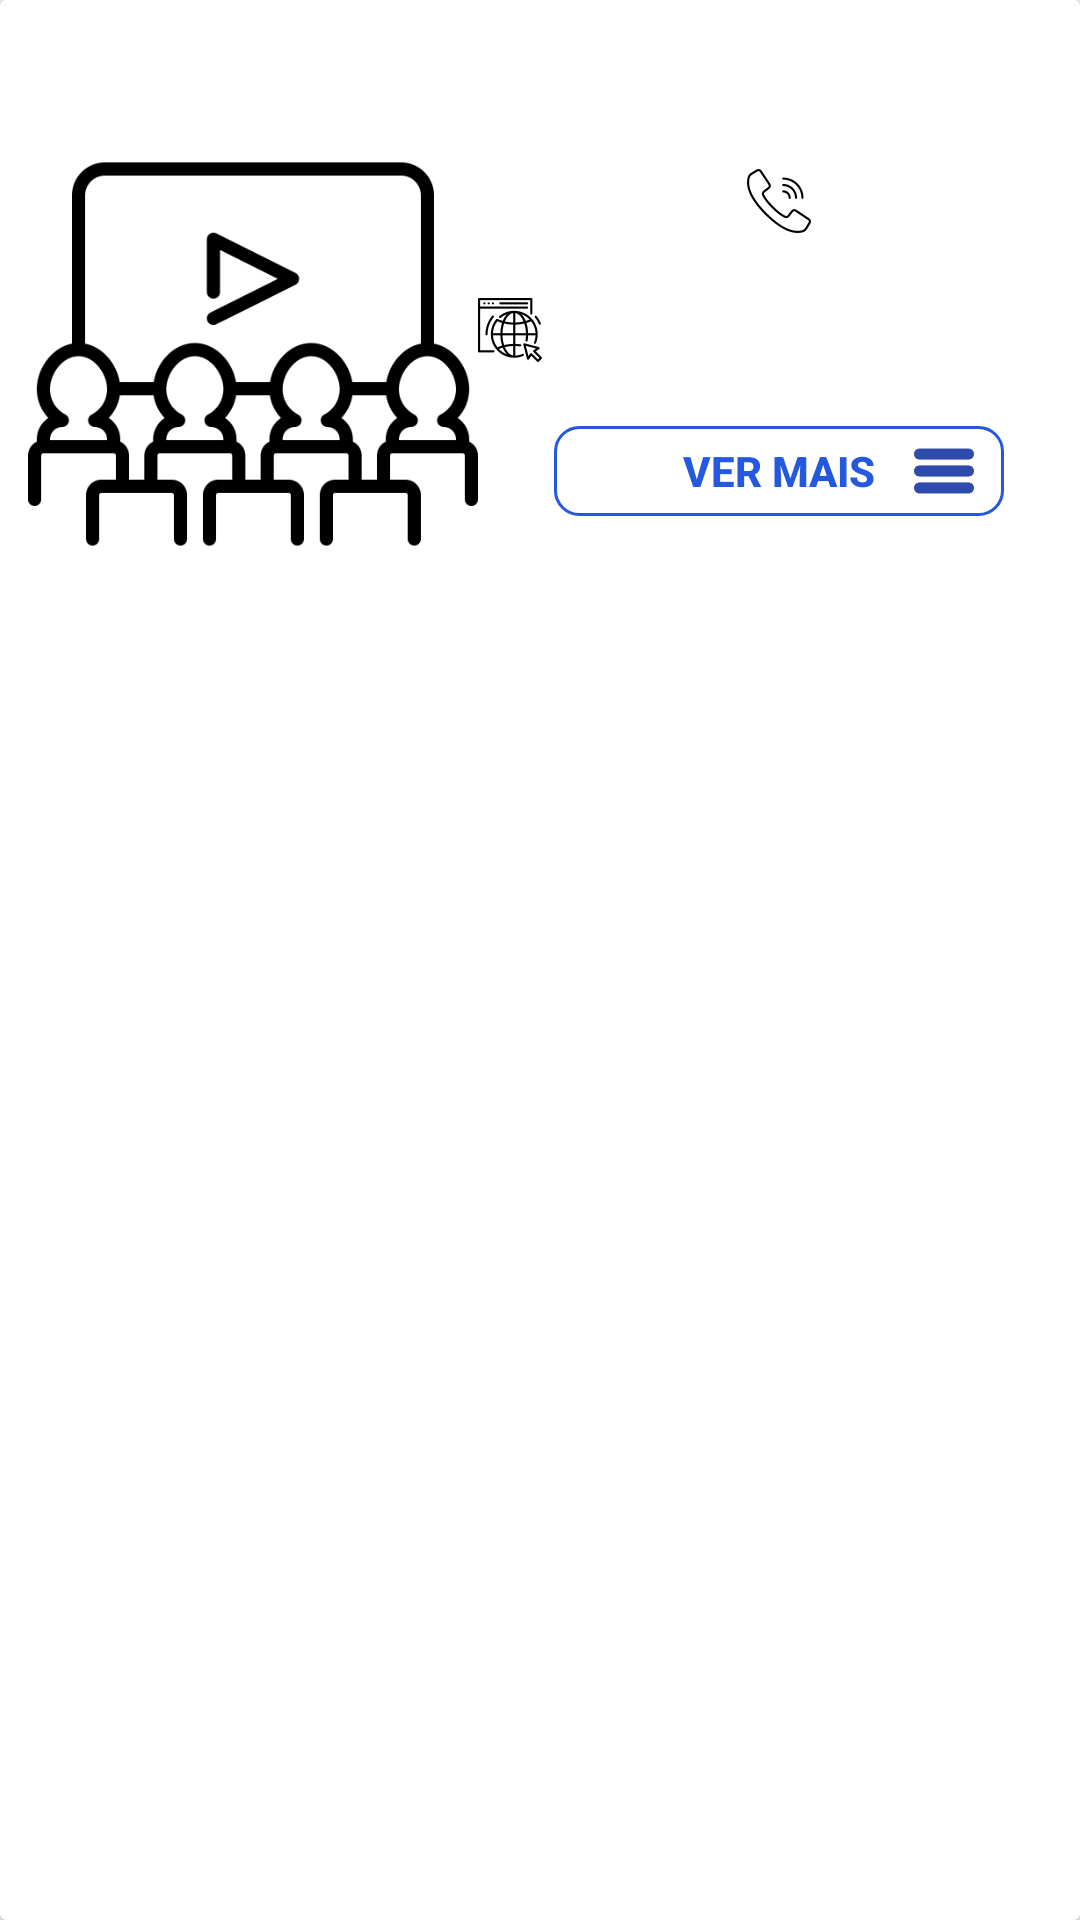

Icon click points for this 1080 x 1920 phone screenshot, format point (x, y):
see more: point (944, 471)
